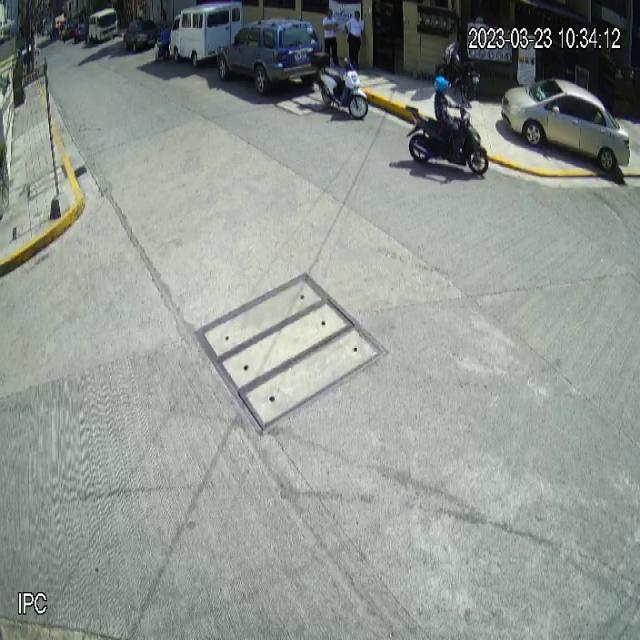Car: (500, 76, 631, 172), (216, 17, 323, 97)
Motorcycle: (404, 100, 489, 178), (310, 46, 371, 122)
Van: (169, 0, 244, 69)
